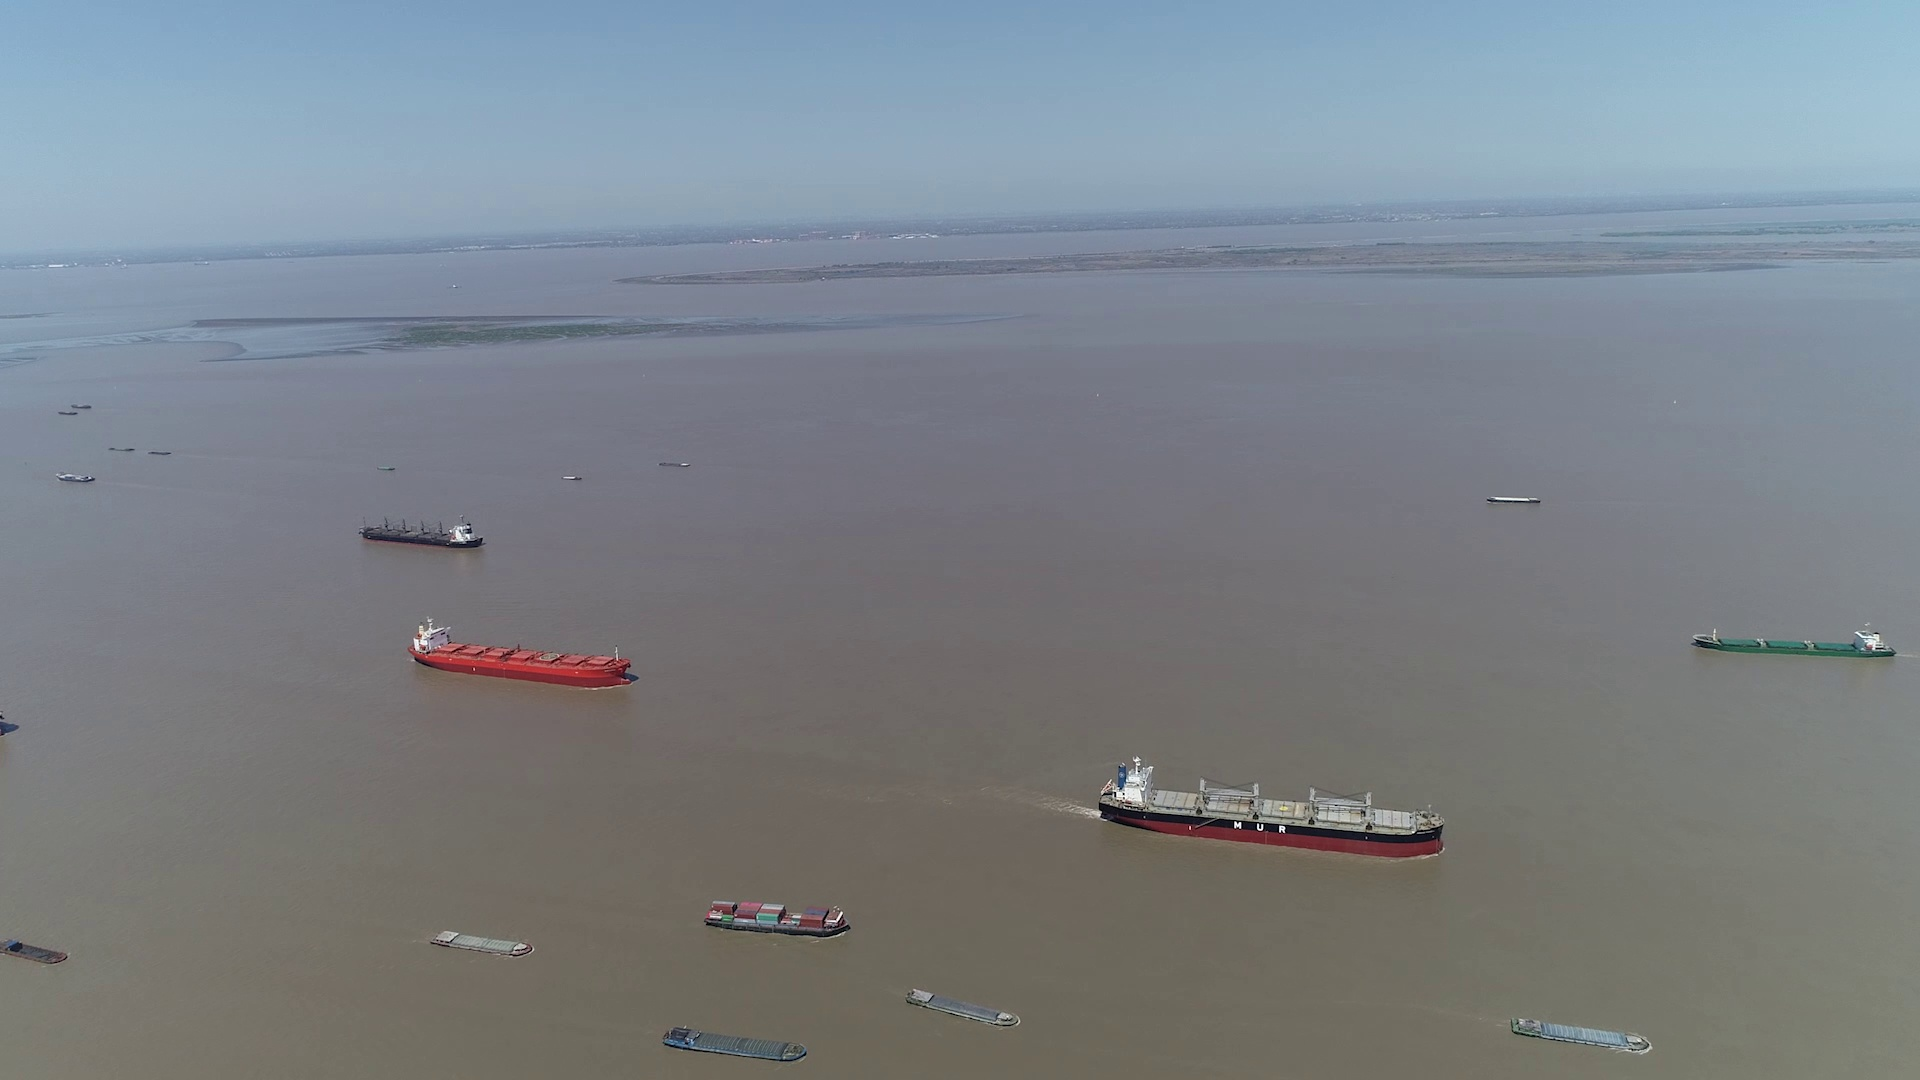ship: (1098, 760, 1445, 857), (410, 620, 633, 688), (1692, 625, 1900, 658), (661, 1026, 806, 1064), (705, 899, 849, 938), (1513, 1015, 1652, 1052), (906, 986, 1021, 1030), (359, 517, 484, 549), (429, 928, 531, 956), (0, 936, 66, 965), (54, 471, 96, 483), (1487, 496, 1540, 505)
